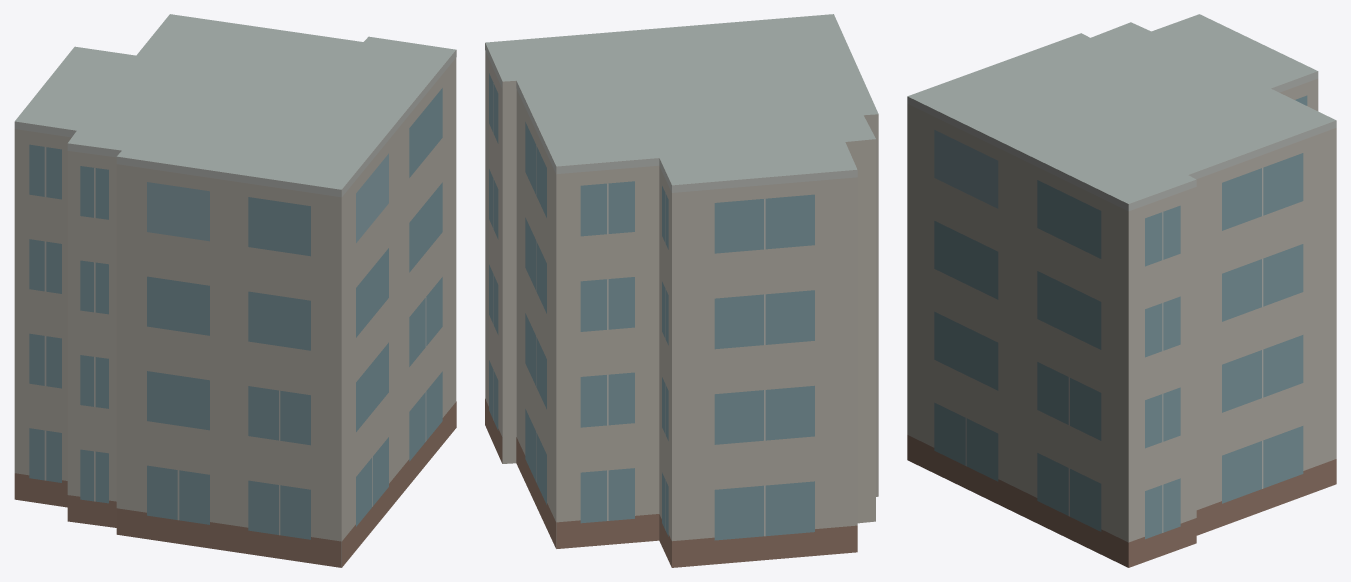
File: survey-upis-32931293.glb
3 views of the same model, side by side, from view 1: azimuth 30°, elevation 25°; view 2: azimuth 150°, elevation 25°; view 3: azimuth 270°, elevation 25° (orthographic). The views are drawn at different scales.
Visible parts, largest first — view 1: survey-upis-32931293.tmp; view 2: survey-upis-32931293.tmp; view 3: survey-upis-32931293.tmp.
Part boxes in pixels (<box>): survey-upis-32931293.tmp: <box>14,14,456,567</box>; survey-upis-32931293.tmp: <box>485,14,878,567</box>; survey-upis-32931293.tmp: <box>907,14,1336,567</box>.
Size of the model in its own units: 13.68 by 12.2 by 13.05.
